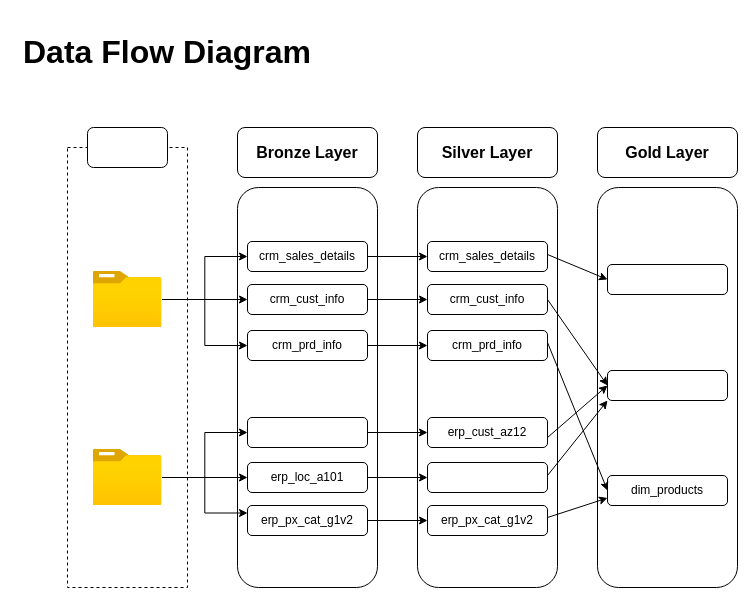
This 755x605 diagram has some shape labels left out. Here are the shapes that lost their labels. From the top down, the centre of each, then its label:
[127,147]: Sources
[127,299]: CRM
[667,279]: fact_sales
[667,385]: dim_customers
[307,432]: erp_cust_az102
[127,477]: ERP
[487,477]: erp_loc_101
